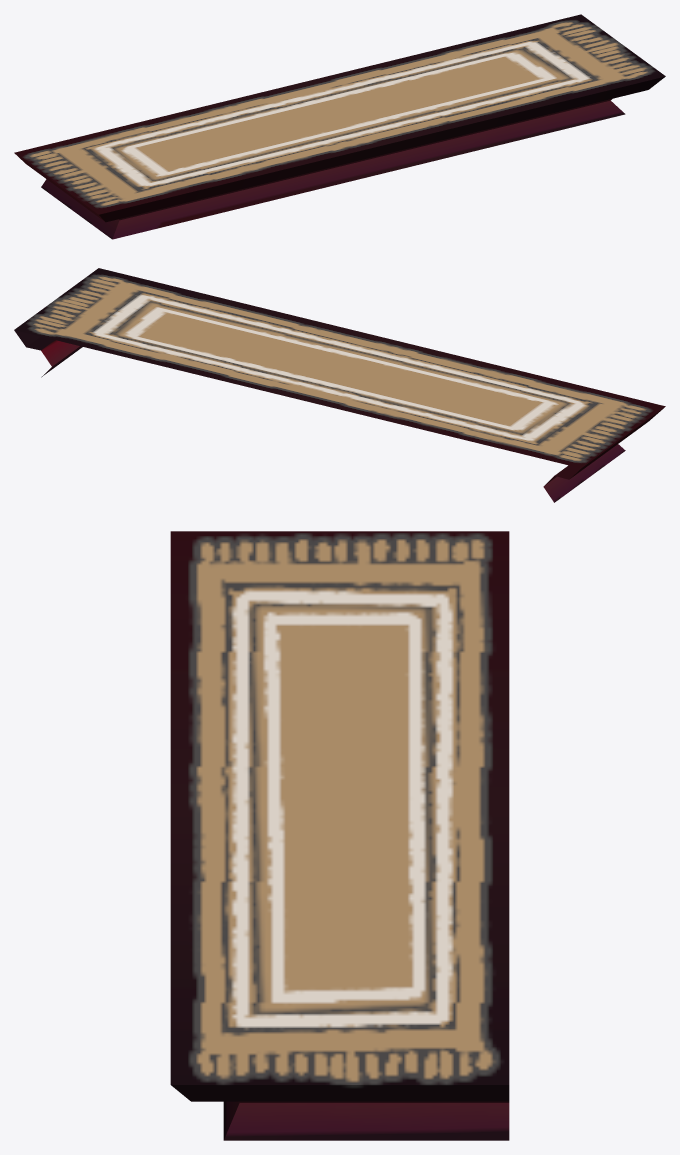
Rendered from mesacozinha.fbx.
The picture shows the model from 3 angles, top to bottom: view 1: azimuth 30°, elevation 25°; view 2: azimuth 150°, elevation 25°; view 3: azimuth 270°, elevation 25°; orthographic projection. The views are drawn at different scales.
Visible parts, largest first — view 1: Cube; view 2: Cube; view 3: Cube.
Boxes of the visible parts, <box> form: Cube: <box>14,14,665,239</box>; Cube: <box>14,268,665,502</box>; Cube: <box>170,531,509,1140</box>.
Bounding box in the file's own units: 1458 × 101 × 377.
Materials: 1 (1 with a texture image).
